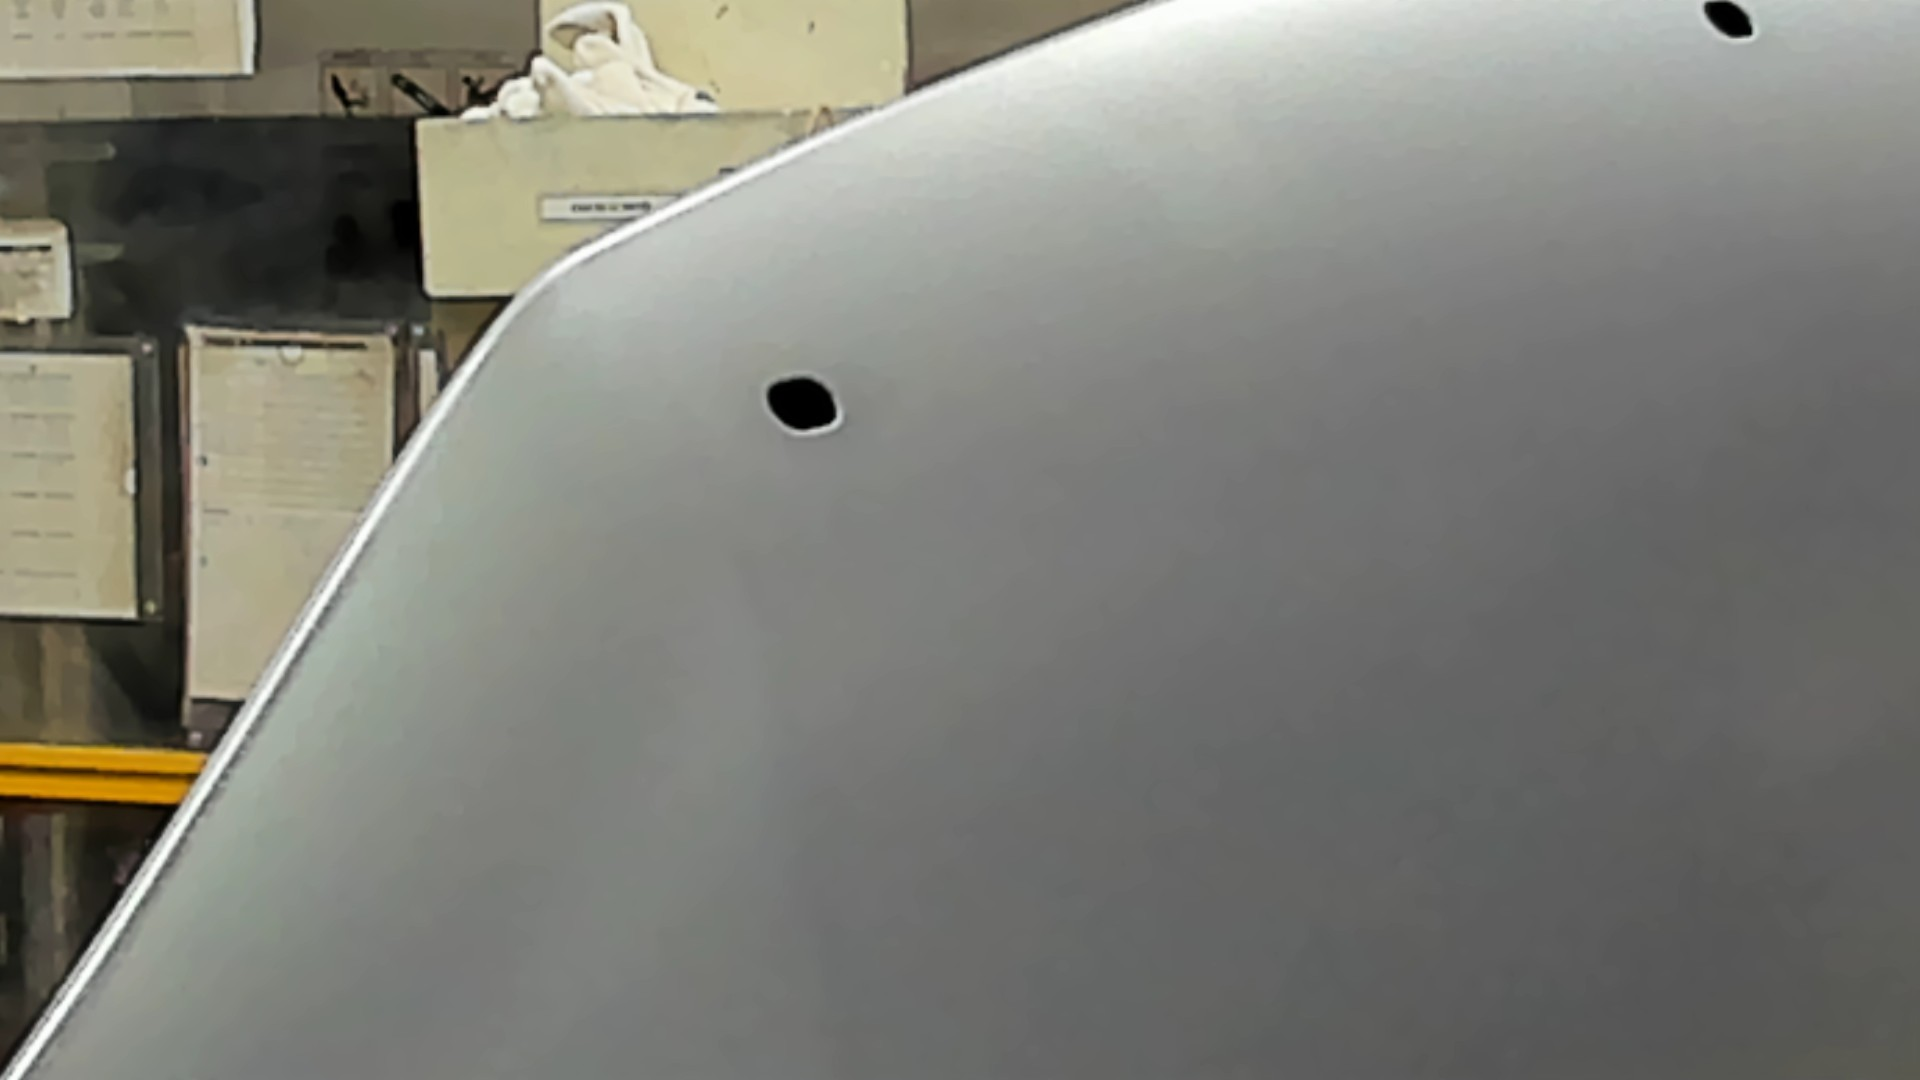amorfo: (764, 368, 848, 446), (1689, 1, 1768, 46)
